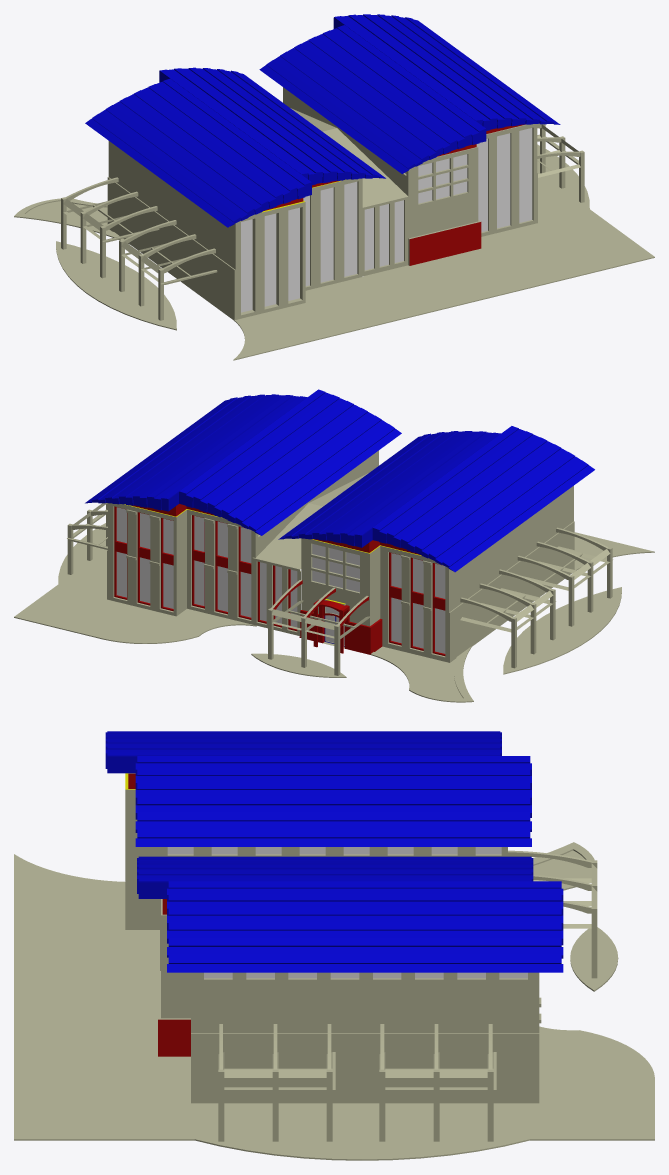
File: Building_Leacock_Exterior.fbx
3 views of the same model, one above another, from view 1: azimuth 30°, elevation 25°; view 2: azimuth 150°, elevation 25°; view 3: azimuth 270°, elevation 25° (orthographic). The views are drawn at different scales.
Parts seen in each view (by area): view 1: Model, Model01; view 2: Model, Model01; view 3: Model.
Part boxes in pixels (x1,y1,x2,y2): Model: (14,14,654,360); Model01: (56,177,217,330); Model: (14,389,654,702); Model01: (460,527,621,674); Model: (14,731,654,1160).
Size of the model in its own units: 1.58 by 0.387 by 1.28.
